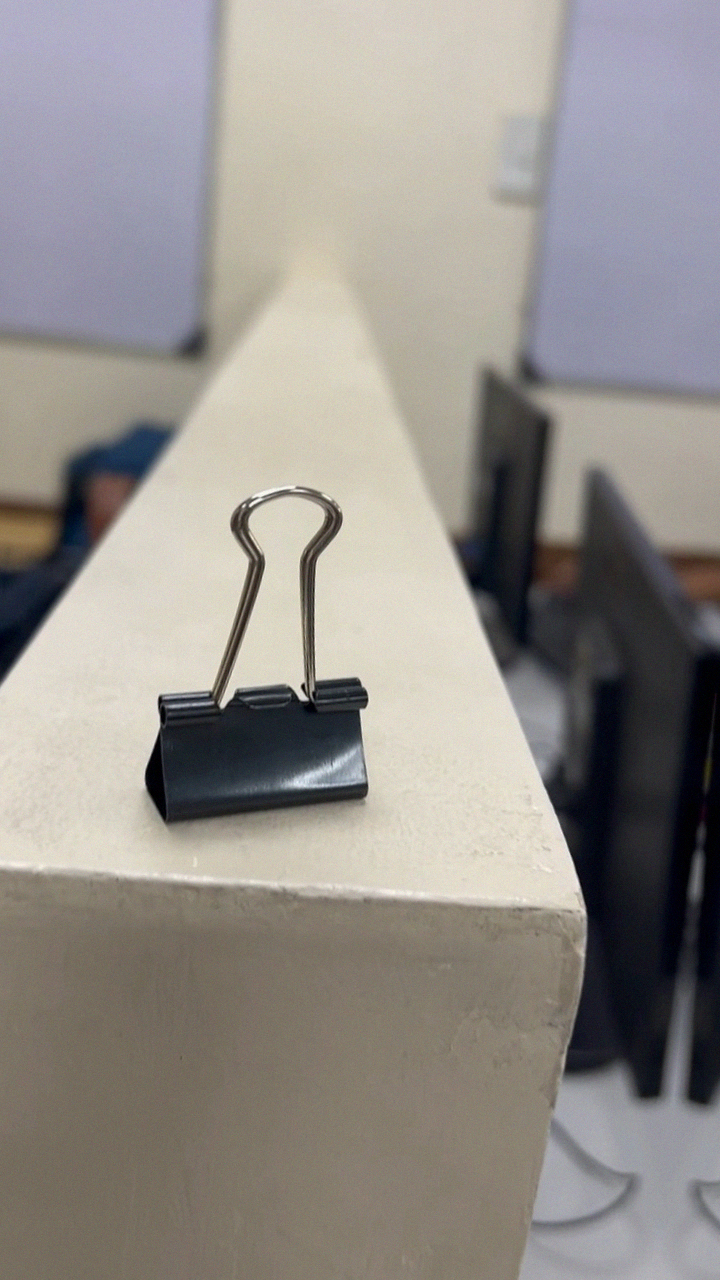kep_giay: (133, 468, 402, 840)
